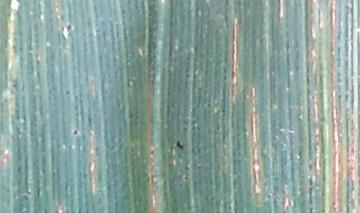tarspot: (173, 141, 184, 150), (72, 128, 79, 135), (149, 150, 155, 156), (182, 176, 188, 181)
